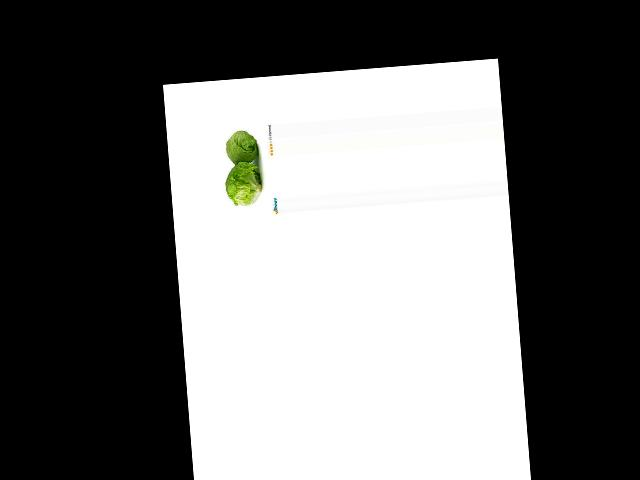lettuce: (224, 127, 267, 175)
